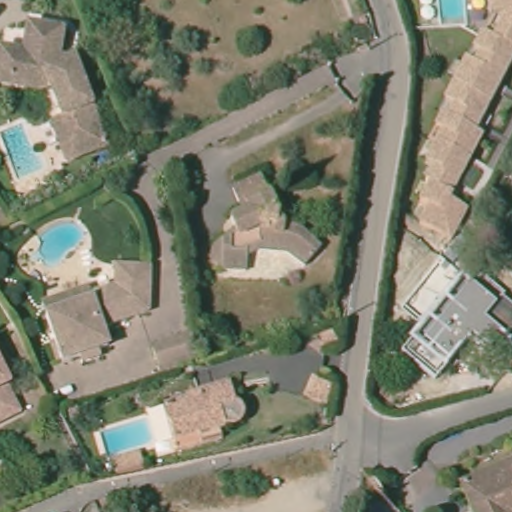pool: (18, 217, 93, 270), (92, 412, 161, 459), (1, 119, 50, 183), (431, 1, 471, 30)
